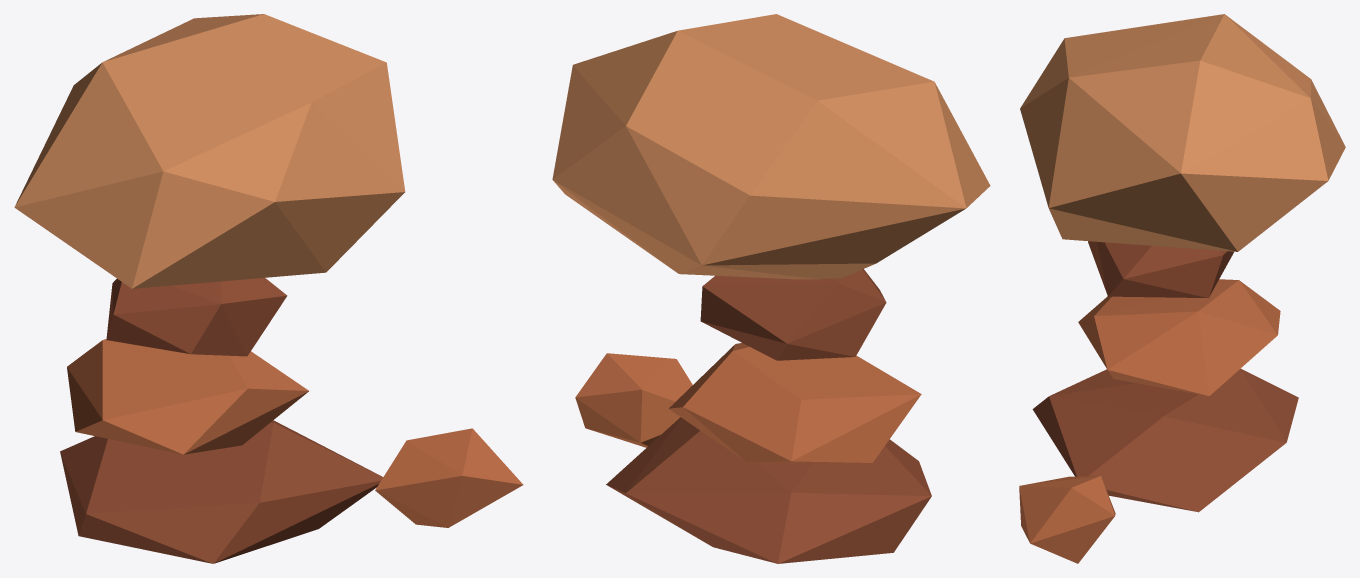
Rendered from rocher_desert_2.glb.
3 views of the same model, side by side, from view 1: azimuth 30°, elevation 25°; view 2: azimuth 150°, elevation 25°; view 3: azimuth 270°, elevation 25° (orthographic). The views are drawn at different scales.
Parts seen in each view (by area): view 1: roche_gres_clair.006, roche_gres_sombre.006, roche_gres.006; view 2: roche_gres_clair.006, roche_gres_sombre.006, roche_gres.006; view 3: roche_gres_clair.006, roche_gres_sombre.006, roche_gres.006.
Part boxes in pixels (x1,y1,x2,y2): roche_gres_clair.006: (14, 14, 405, 288); roche_gres_sombre.006: (60, 278, 383, 563); roche_gres.006: (67, 339, 523, 527); roche_gres_clair.006: (552, 14, 990, 279); roche_gres_sombre.006: (606, 269, 931, 563); roche_gres.006: (575, 343, 921, 462); roche_gres_clair.006: (1020, 14, 1345, 251); roche_gres_sombre.006: (1032, 241, 1298, 512); roche_gres.006: (1019, 279, 1280, 563).
Size of the model in its own units: 0.7322 by 0.7807 by 0.5222.
